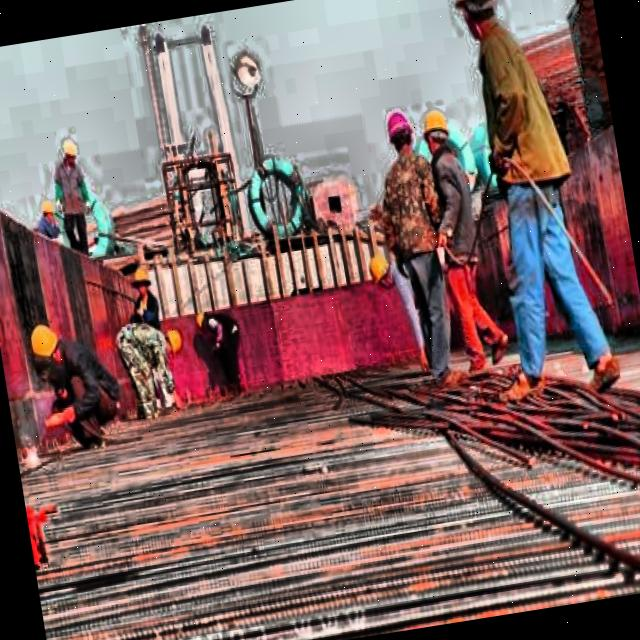helmet: (448, 0, 504, 44), (416, 104, 460, 160), (25, 317, 66, 372), (382, 104, 417, 158), (363, 248, 400, 298), (157, 328, 187, 366), (128, 261, 152, 298), (38, 195, 62, 229), (58, 138, 80, 169), (190, 304, 210, 336)
